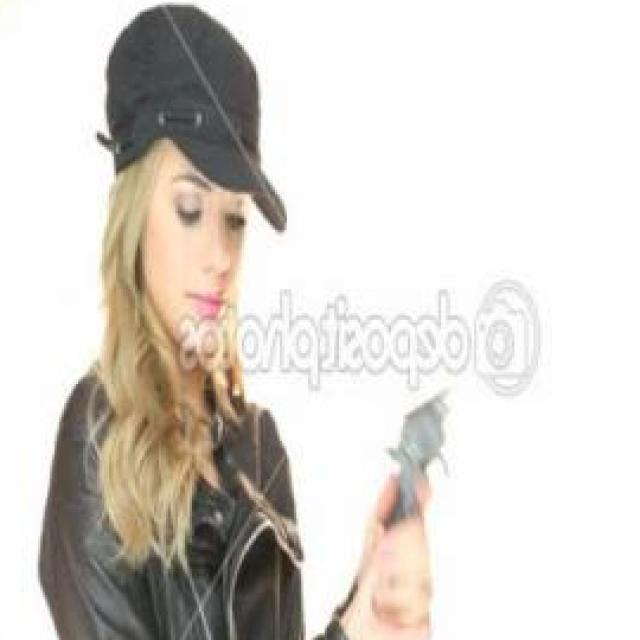pistol: (373, 377, 474, 556)
